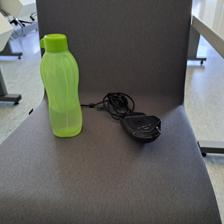bottle: (39, 33, 83, 138)
mouse: (119, 110, 162, 145)
